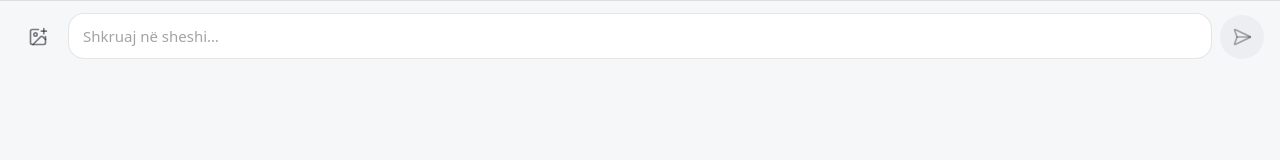
Composer send › posts the message and clears the draft immediately on success
Type "ship it" into the text box.
click(640, 36); type("ship it")  # box [69,14,1211,58]
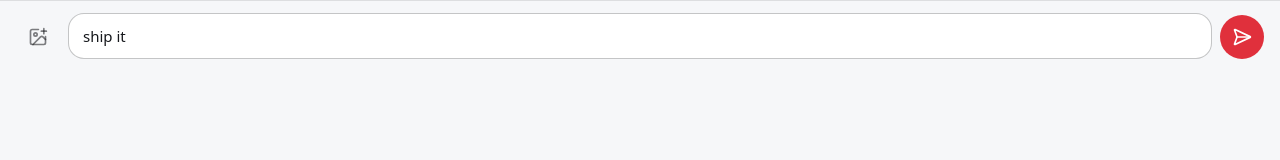
Click the button named "Posto".
click(1242, 37)  # box [1220,15,1264,59]
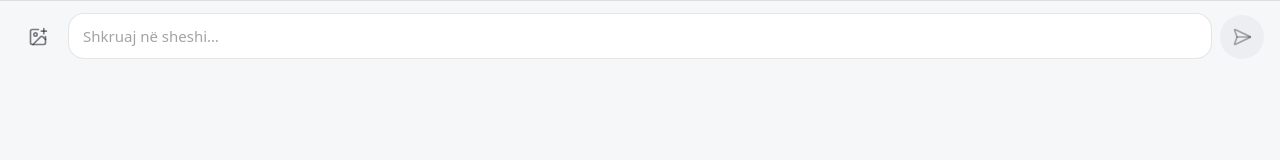
Result: the text box is empty at [69,14,1211,58]
